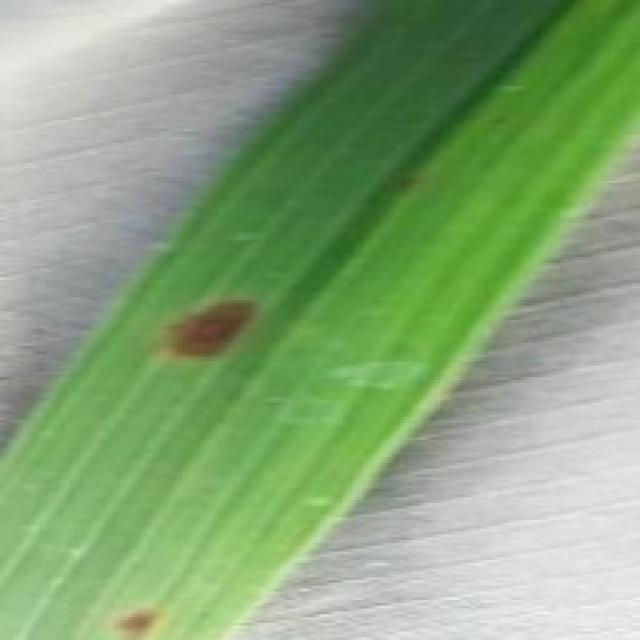Rice___Brown_Spot: (0, 1, 637, 637)
